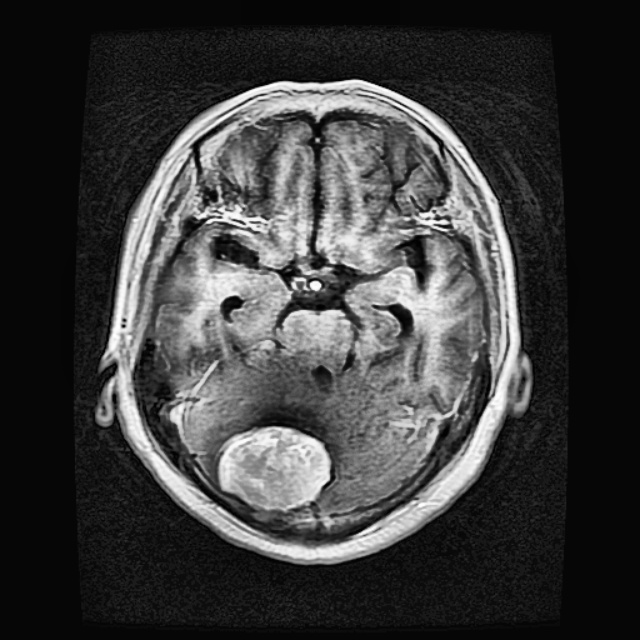Pituitary: (218, 424, 330, 509)
